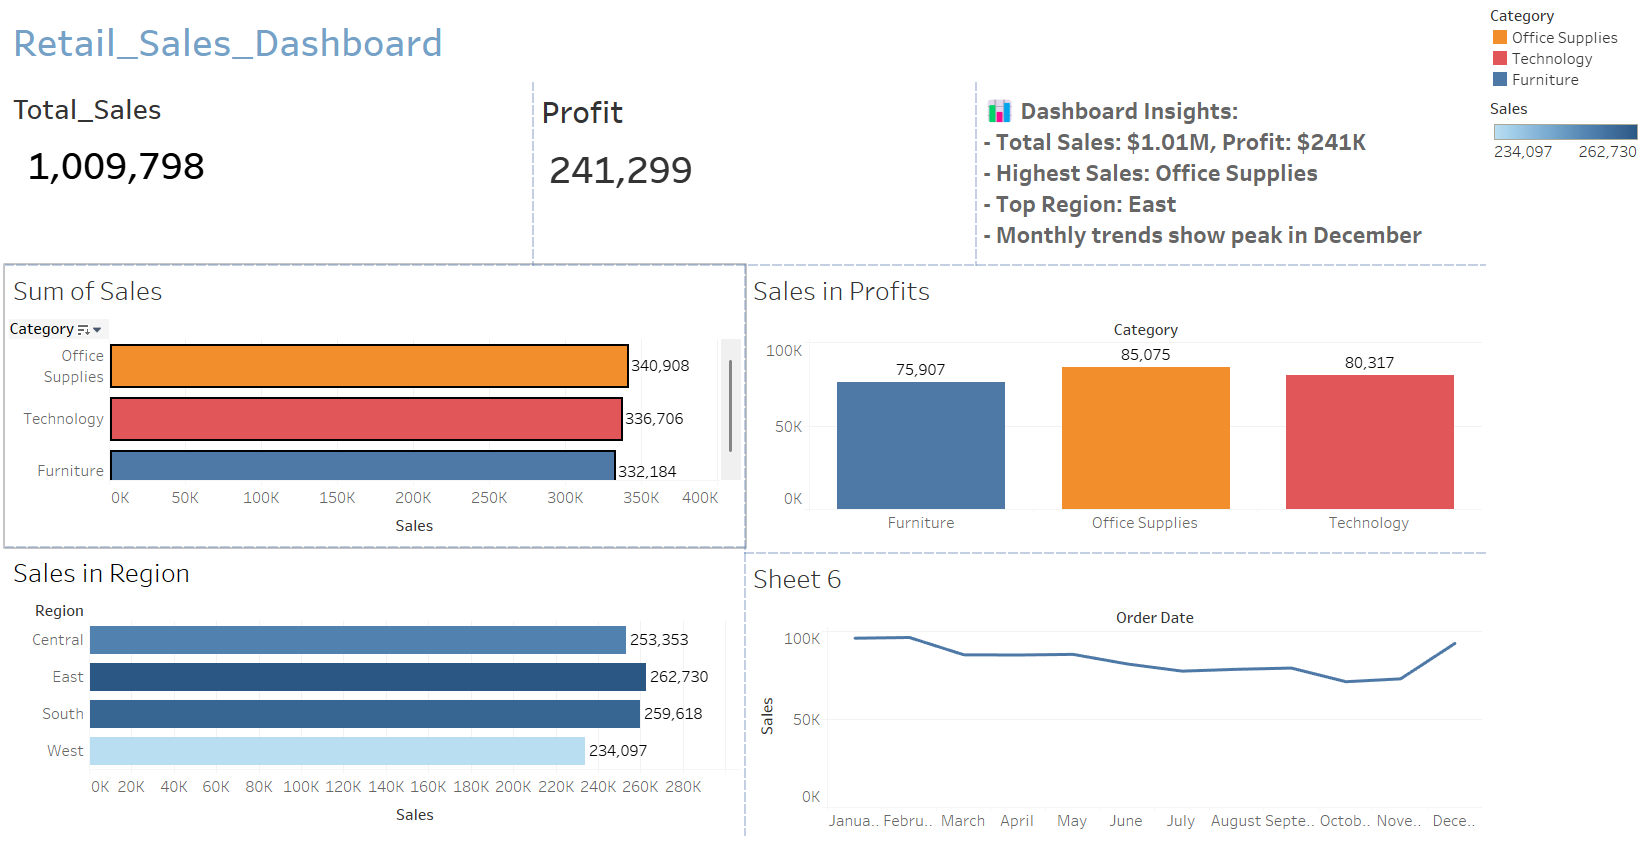

Layout of this report page (visuals, bound fields, positions):
{"tool":"tableau","page":{"name":"Dashboard 1","canvas":[1000,1000],"units":"permille","ordinal":0},"visuals":[{"type":"title","box":[4.8,9.4,893.8,95.2]},{"type":"legend","title":"Sheet 3","param":"[federated.1r4u0b910yf85m14nqxn21651qml].[none:Category:nk]","box":[898.6,9.4,96.6,109.3]},{"type":"worksheet","title":"Sheet 4","mark":"Automatic","box":[4.8,104.6,318.5,181]},{"type":"worksheet","title":"Sheet 5","mark":"Automatic","box":[323.3,104.6,267.4,181]},{"type":"text","box":[590.7,104.6,307.9,181]},{"type":"legend","title":"Sheet 1","param":"[federated.1r4u0b910yf85m14nqxn21651qml].[sum:Sales:qk]","box":[898.6,118.7,96.6,85.8]},{"type":"worksheet","title":"Sheet 3","mark":"Automatic","rows":["Category"],"cols":["Sales"],"box":[4.8,285.6,446.8,365.4]},{"type":"worksheet","title":"Sheet 2","mark":"Automatic","rows":["Profit"],"cols":["Category"],"box":[451.7,285.6,446.9,372.5]},{"type":"worksheet","title":"Sheet 1","mark":"Automatic","rows":["Region"],"cols":["Sales"],"box":[4.8,651,446.8,339.6]},{"type":"worksheet","title":"Sheet 6","mark":"Automatic","rows":["Sales"],"cols":["Order Date"],"box":[451.7,658.1,446.9,332.6]}]}

Visuals, with their boxes on the dashboard's canvas, which has no fixed pixel size, in thousandths of its width and height (x1, y1, x2, y2). These are canvas units, not pixel positions in the 1651x843 screenshot, which may show the page scaled, cropped or inside an application window:
title: box=[5, 9, 899, 105]
"Sheet 3" legend: box=[899, 9, 995, 119]
"Sheet 4" worksheet: box=[5, 105, 323, 286]
"Sheet 5" worksheet: box=[323, 105, 591, 286]
text: box=[591, 105, 899, 286]
"Sheet 1" legend: box=[899, 119, 995, 204]
"Sheet 3" worksheet: box=[5, 286, 452, 651]
"Sheet 2" worksheet: box=[452, 286, 899, 658]
"Sheet 1" worksheet: box=[5, 651, 452, 991]
"Sheet 6" worksheet: box=[452, 658, 899, 991]
